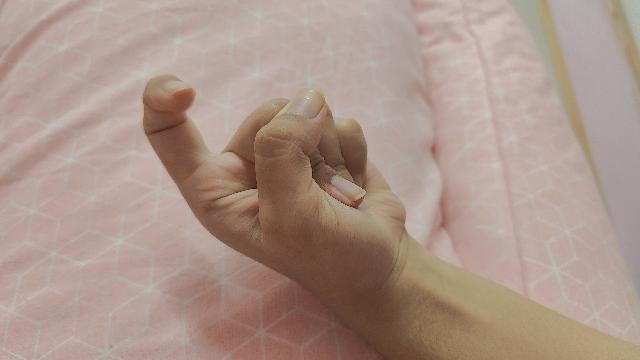tamrachud: (141, 76, 640, 360)
